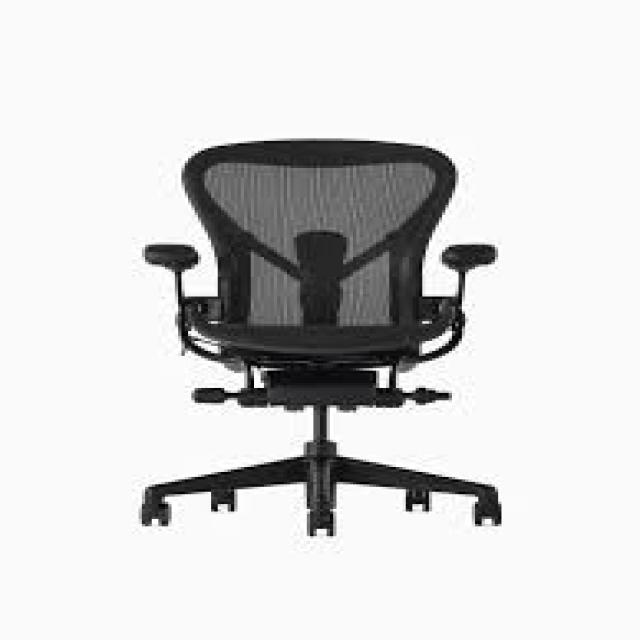chair: (85, 117, 580, 640)
